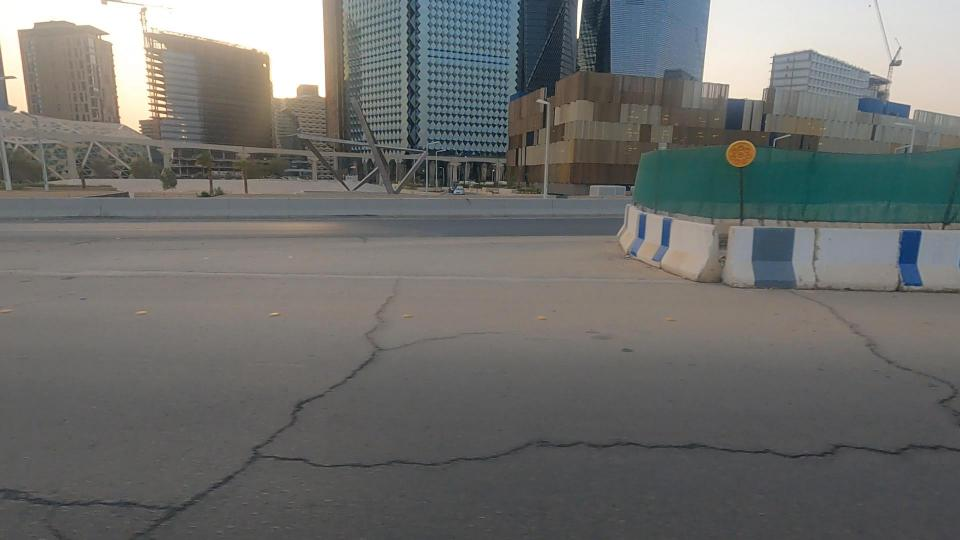CONSTRUCTION_ROAD: (556, 102, 942, 293)
